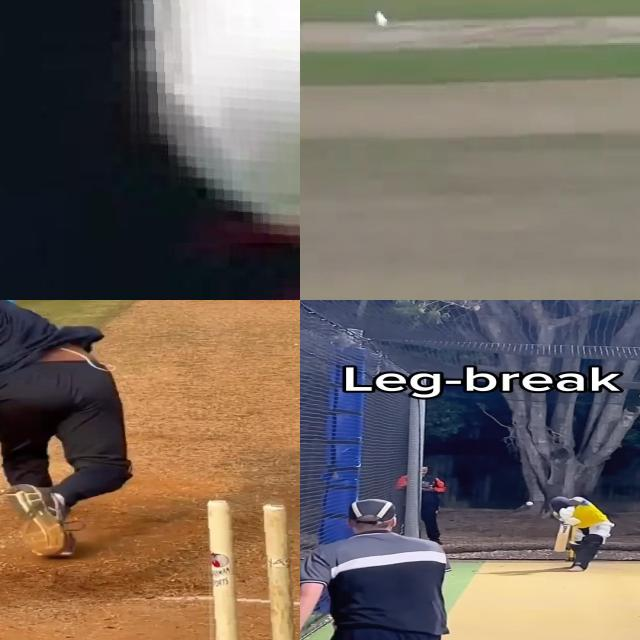Cricket ball: (127, 0, 300, 243), (373, 6, 389, 32), (525, 501, 535, 506)
Stumps: (203, 494, 300, 640)
